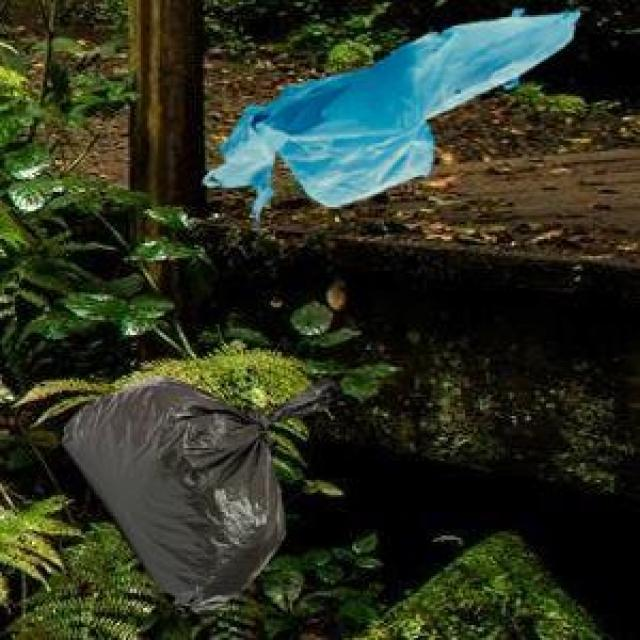miscellaneous trash: (58, 373, 339, 610)
